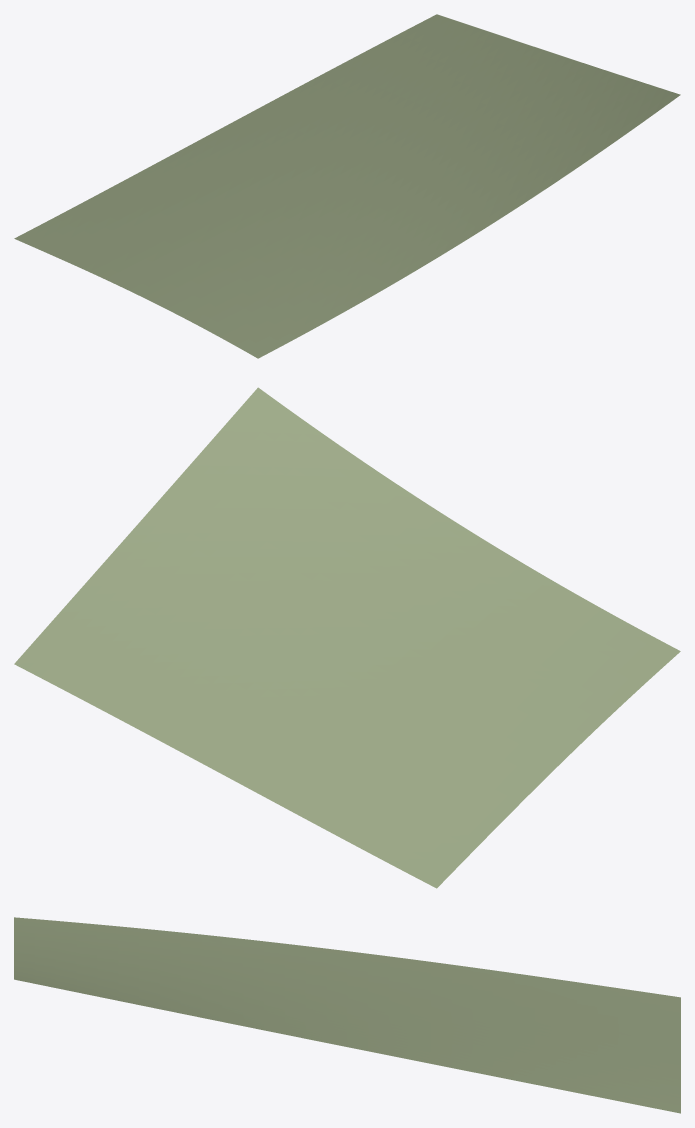
The model's file is alpine-7-0.glb.
3 views of the same model, one above another, from view 1: azimuth 30°, elevation 25°; view 2: azimuth 150°, elevation 25°; view 3: azimuth 270°, elevation 25° (orthographic). The views are drawn at different scales.
Parts seen in each view (by area): view 1: alpine-7-0; view 2: alpine-7-0; view 3: alpine-7-0.
Boxes of the visible parts, left/top/right/bottom form: alpine-7-0: left=14, top=14, right=680, bottom=358; alpine-7-0: left=14, top=387, right=680, bottom=888; alpine-7-0: left=14, top=917, right=680, bottom=1113.
Size of the model in its own units: 256 by 127 by 256.
